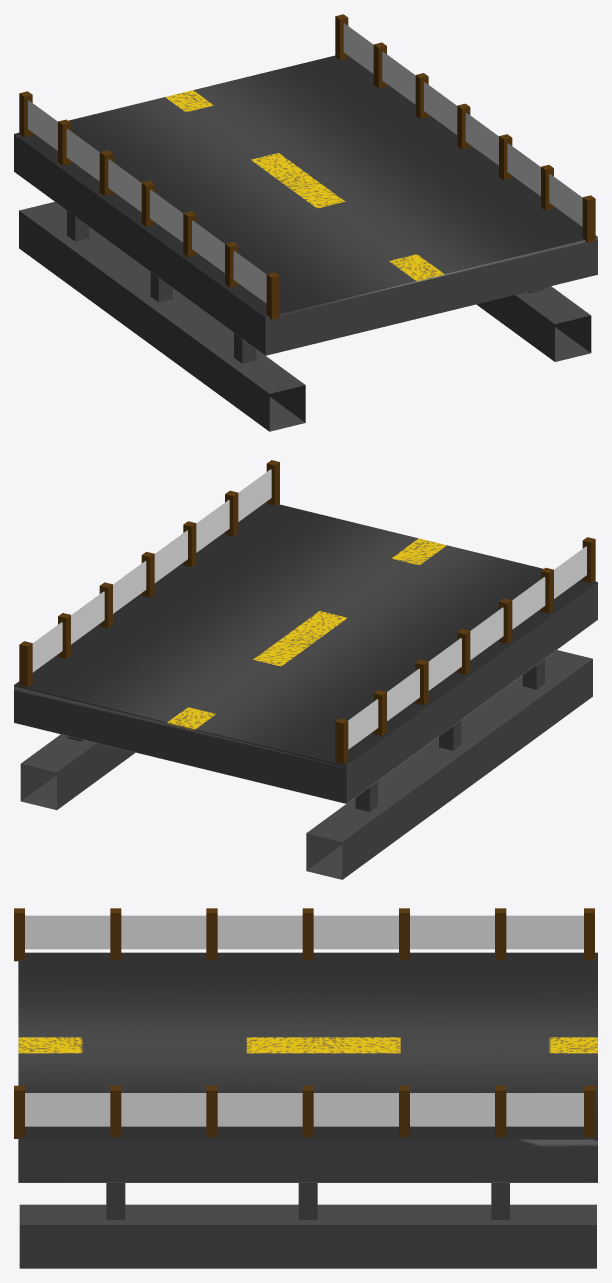
Rendered from bridge 3.fbx.
The picture shows the model from 3 angles, top to bottom: view 1: azimuth 30°, elevation 25°; view 2: azimuth 150°, elevation 25°; view 3: azimuth 270°, elevation 25°; orthographic projection. The views are drawn at different scales.
Visible parts, largest first — view 1: polySurface80; view 2: polySurface80; view 3: polySurface80.
Boxes of the visible parts, box(x1,y1,x2,y2) form: polySurface80: box(14, 14, 597, 431); polySurface80: box(14, 460, 597, 879); polySurface80: box(14, 908, 597, 1268).
Bounding box in the file's own units: 9.19 × 4.12 × 12.14.
